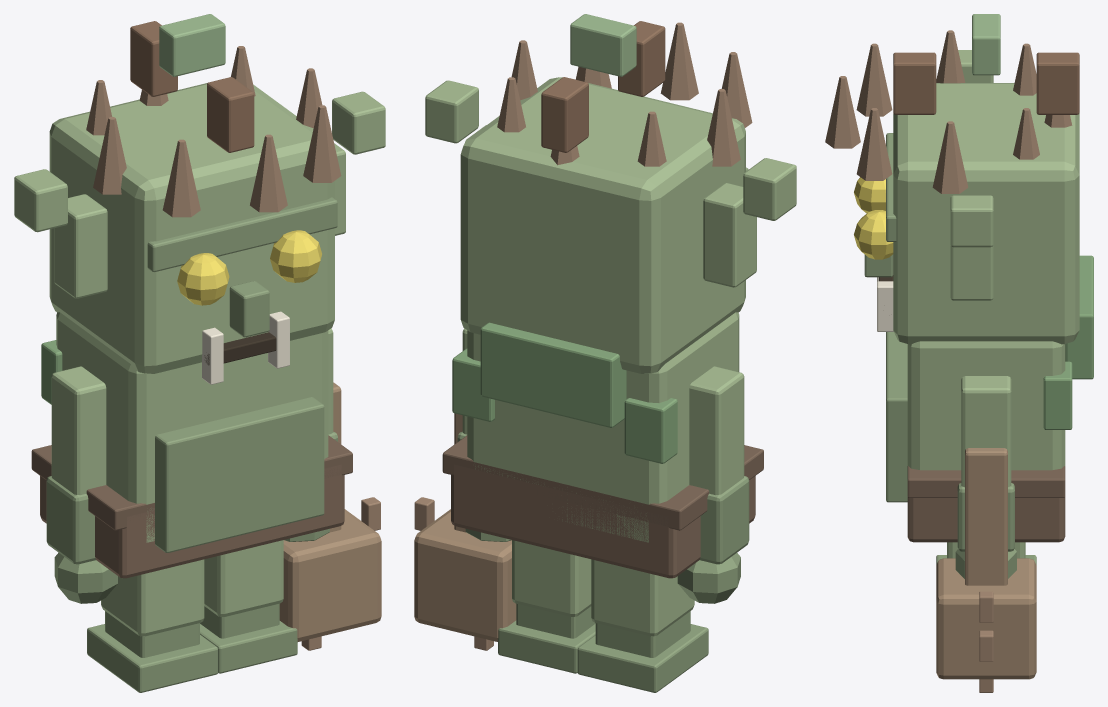
The model's file is goblin_v4.glb.
3 views of the same model, side by side, from view 1: azimuth 30°, elevation 25°; view 2: azimuth 150°, elevation 25°; view 3: azimuth 270°, elevation 25° (orthographic). The views are drawn at different scales.
Parts seen in each view (by area): view 1: Head_Skull, Body_Belly, Body_Torso, Club_Head, Loincloth, ArmL_Upper, LegL_Thigh, Brow_Ridge, LegR_Thigh, Ear_L, LegL_Foot, Crown_Leaf (+27 smaller); view 2: Head_Skull, Body_Torso, Loincloth, Moss_Back, Club_Head, ArmL_Upper, LegL_Thigh, Belt_Strap, LegR_Thigh, Ear_L, LegL_Foot, Crown_Leaf (+18 smaller); view 3: Head_Skull, Body_Torso, Club_Head, Club_Shaft, Loincloth, ArmR_Upper, Body_Belly, Belt_Strap, Bramble_B, Bramble_F, Ear_R, EarTip_R (+20 smaller).
Boxes of the visible parts, x1,y1,x2,y2 form: Head_Skull: (49, 83, 334, 373); Body_Belly: (155, 397, 324, 552); Body_Torso: (56, 312, 328, 542); Club_Head: (279, 509, 381, 641); Loincloth: (40, 464, 344, 578); ArmL_Upper: (51, 366, 106, 494); LegL_Thigh: (101, 559, 204, 636); Brow_Ridge: (147, 197, 337, 272); LegR_Thigh: (204, 540, 283, 616); Ear_L: (54, 194, 107, 298); LegL_Foot: (87, 624, 217, 692); Crown_Leaf: (159, 14, 225, 76); Head_Skull: (460, 77, 745, 373); Body_Torso: (467, 312, 739, 542); Loincloth: (451, 464, 755, 578); Moss_Back: (480, 322, 626, 427); Club_Head: (414, 509, 516, 641); ArmL_Upper: (689, 366, 744, 495); LegL_Thigh: (591, 559, 694, 636); Belt_Strap: (442, 435, 763, 530); LegR_Thigh: (512, 540, 591, 616); Ear_L: (703, 183, 756, 287); LegL_Foot: (577, 624, 708, 692); Crown_Leaf: (570, 14, 636, 76); Head_Skull: (893, 83, 1079, 344); Body_Torso: (907, 341, 1065, 470); Club_Head: (936, 558, 1036, 679); Club_Shaft: (965, 448, 1007, 585); Loincloth: (907, 497, 1065, 542); ArmR_Upper: (961, 376, 1011, 487); Body_Belly: (886, 332, 907, 502); Belt_Strap: (907, 466, 1065, 497); Bramble_B: (1036, 52, 1079, 114); Bramble_F: (893, 52, 936, 114); Ear_R: (950, 245, 993, 300); EarTip_R: (950, 195, 993, 247).
Size of the model in its own units: 0.7085 by 1.22 by 0.4875.
